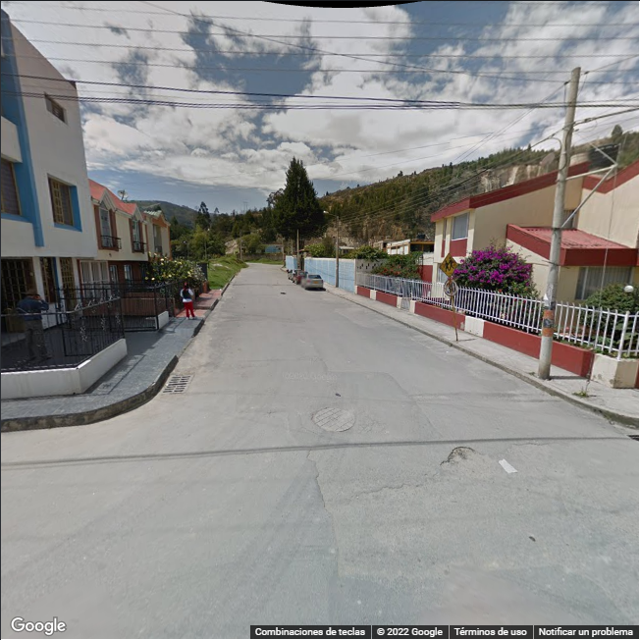D00: (306, 442, 325, 499)
D10: (326, 478, 436, 504)
D40: (438, 441, 482, 469)
